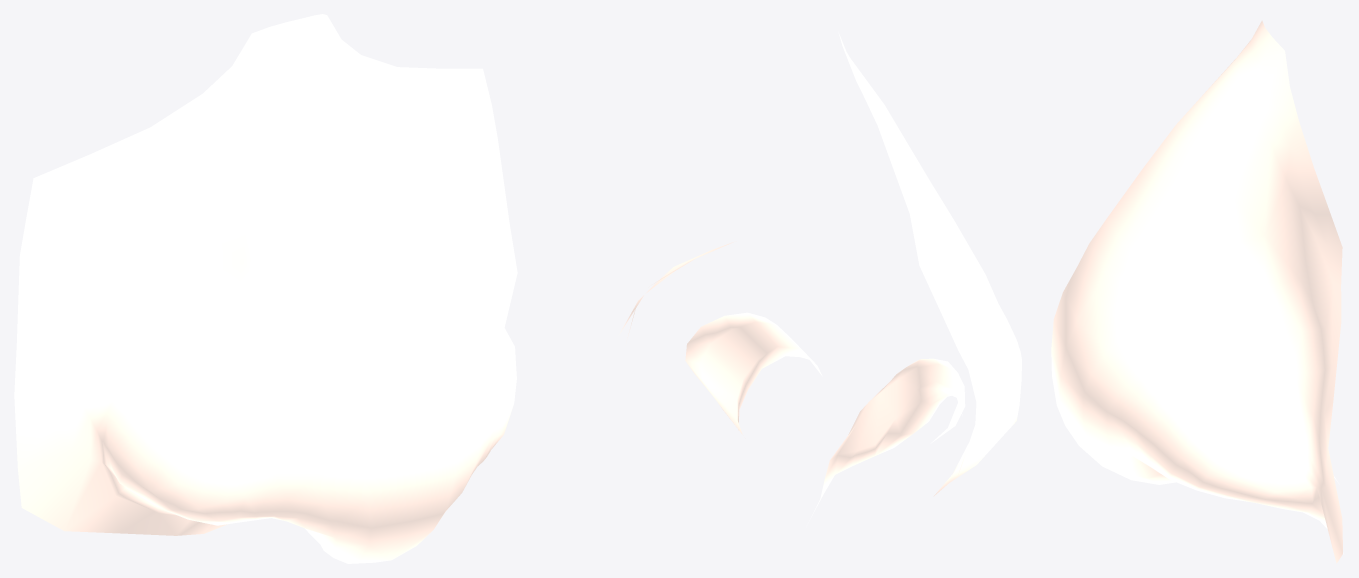
The model's file is nose_02.glb.
3 views of the same model, side by side, from view 1: azimuth 30°, elevation 25°; view 2: azimuth 150°, elevation 25°; view 3: azimuth 270°, elevation 25° (orthographic). The views are drawn at different scales.
Parts seen in each view (by area): view 1: nose_02; view 2: nose_02; view 3: nose_02.
Boxes of the visible parts, x1,y1,x2,y2 form: nose_02: [14, 14, 517, 563]; nose_02: [619, 32, 1021, 522]; nose_02: [1051, 20, 1343, 563].
Size of the model in its own units: 0.000983 by 0.000995 by 0.000539.
